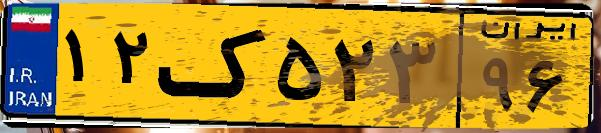1: (57, 26, 110, 100)
2: (330, 28, 385, 110), (110, 28, 158, 98)
3: (385, 28, 445, 110)
5: (270, 28, 330, 110)
6: (525, 38, 570, 115)
9: (475, 38, 525, 113)
ک: (158, 12, 270, 120)
